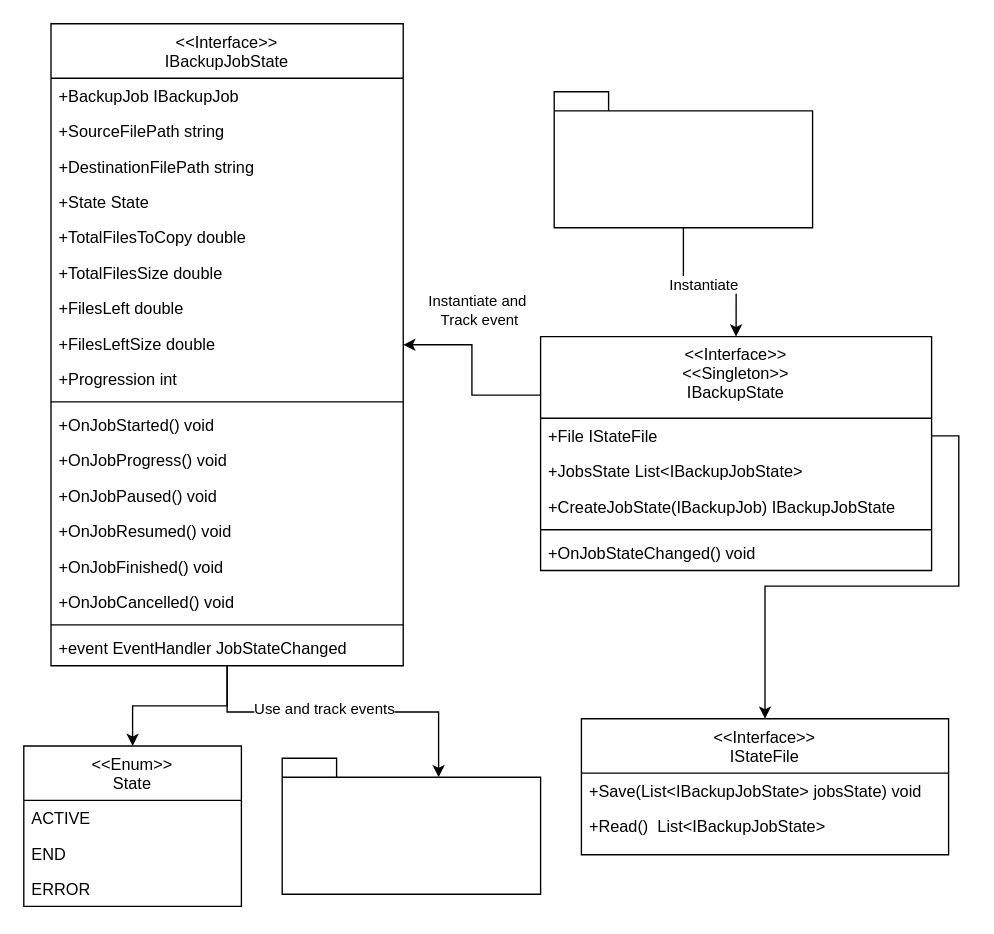
This 994x934 diagram has some shape labels left out. Here are the shapes that lost their labels. From the top down, the centre of each, then its label:
At point 683,159: "View Model".
At point 411,825: "Job (Model)".
